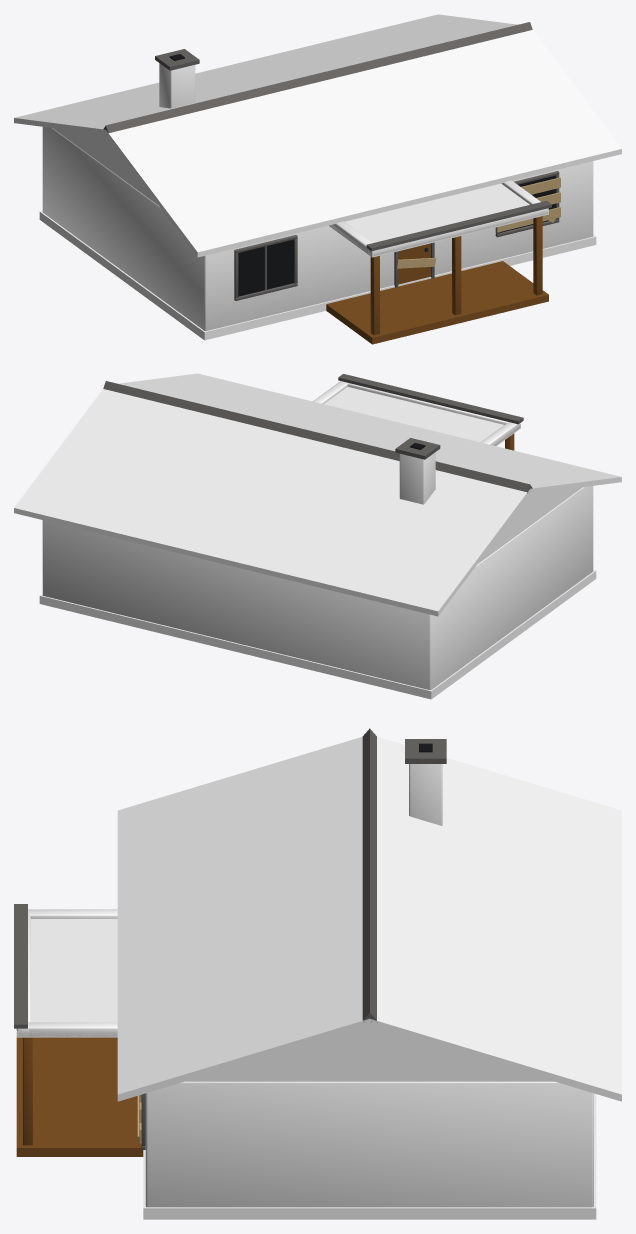
The model's file is bld_ranch_porch.glb.
The picture shows the model from 3 angles, top to bottom: view 1: azimuth 30°, elevation 25°; view 2: azimuth 150°, elevation 25°; view 3: azimuth 270°, elevation 25°; orthographic projection. The views are drawn at different scales.
Visible parts, largest first — view 1: ro_roof_front, ro_walls, ro_roof_back, ro_deck, ro_porch_deck, ro_footing, ro_roof_cap, ro_win0, ro_roof_gable, ro_porch_coping, ro_chim, ro_porch_parapet (+6 smaller); view 2: ro_roof_back, ro_walls, ro_roof_front, ro_footing, ro_porch_deck, ro_roof_cap, ro_roof_gable, ro_chim, ro_porch_coping, ro_porch_parapet, ro_chim_cap; view 3: ro_roof_front, ro_roof_back, ro_walls, ro_deck, ro_roof_gable, ro_porch_deck, ro_footing, ro_roof_cap, ro_chim, ro_porch_coping, ro_porch_parapet.003, ro_post.002 (+2 smaller).
Boxes of the visible parts, x1,y1,x2,y2 form: ro_roof_front: (106, 30, 621, 257); ro_walls: (42, 127, 593, 330); ro_roof_back: (14, 14, 517, 134); ro_deck: (326, 261, 548, 344); ro_porch_deck: (329, 183, 548, 257); ro_footing: (39, 211, 596, 340); ro_roof_cap: (103, 22, 532, 133); ro_win0: (238, 239, 293, 296); ro_roof_gable: (53, 128, 157, 204); ro_porch_coping: (366, 200, 551, 251); ro_chim: (159, 63, 195, 108); ro_porch_parapet: (368, 208, 548, 256); ro_roof_back: (14, 389, 529, 616); ro_walls: (42, 486, 593, 689); ro_roof_front: (118, 373, 621, 493); ro_footing: (39, 570, 596, 699); ro_porch_deck: (324, 387, 520, 446); ro_roof_cap: (103, 381, 532, 493); ro_roof_gable: (477, 487, 582, 564); ro_chim: (399, 452, 435, 504); ro_porch_coping: (338, 374, 523, 424); ro_porch_parapet: (340, 381, 520, 427); ro_chim_cap: (395, 438, 440, 459); ro_roof_front: (117, 736, 369, 1101); ro_roof_back: (370, 736, 621, 1101); ro_walls: (145, 1081, 593, 1207); ro_deck: (16, 1037, 143, 1156); ro_roof_gable: (185, 1026, 554, 1081); ro_porch_deck: (16, 919, 117, 1037); ro_footing: (143, 1093, 596, 1219); ro_roof_cap: (362, 728, 377, 1022); ro_chim: (409, 764, 442, 825); ro_porch_coping: (14, 904, 27, 1028); ro_porch_parapet.003: (19, 1022, 117, 1036); ro_post.002: (23, 1037, 32, 1145).
Size of the model in its own units: 12 by 5.13 by 10.85.
